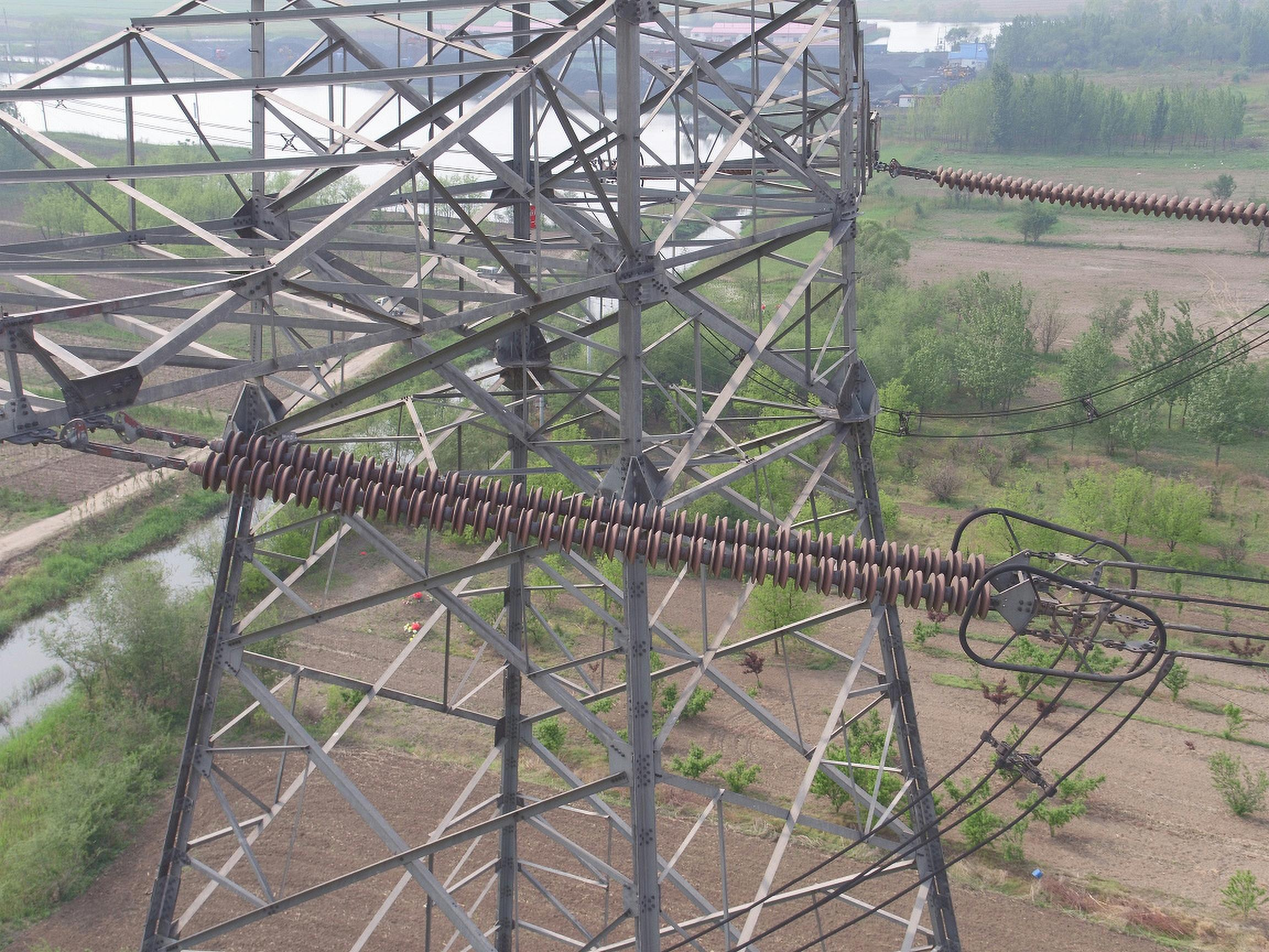insulator: (195, 427, 994, 623), (932, 163, 1269, 230)
